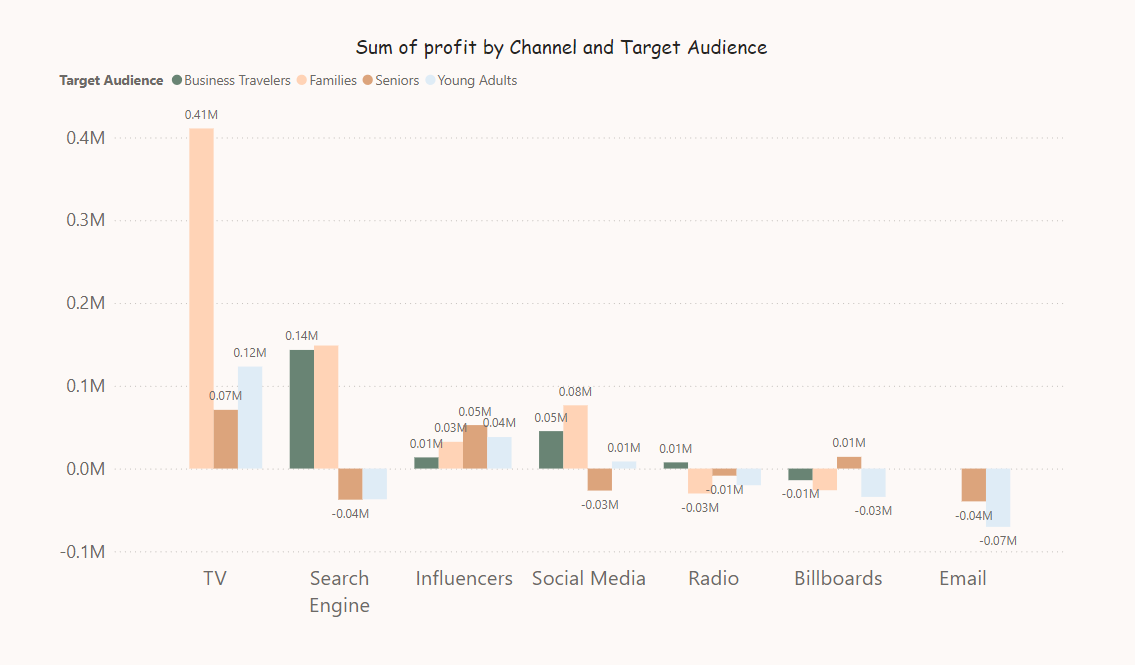

What the dashboard file says about the page in this screenshot:
{"tool":"powerbi","page":{"name":"Profit by channel & audience","canvas":[1280,720],"ordinal":5},"visuals":[{"type":"clusteredColumnChart","fields":{"Category":["Sheet1.Channel"],"Series":["Sheet1.Target Audience"],"Y":["Sum(Sheet1.profit)"]},"box":[119,56.4,995.1,581.6],"z":0}]}

Visuals, with their boxes on the page's 1280x720 design canvas (x1, y1, x2, y2). These are canvas units, not pixel positions in the 1135x665 screenshot, which may show the page scaled, cropped or inside an application window:
clusteredColumnChart - Sheet1.Channel x Sheet1.Target Audience: (x1=119, y1=56, x2=1114, y2=638)
